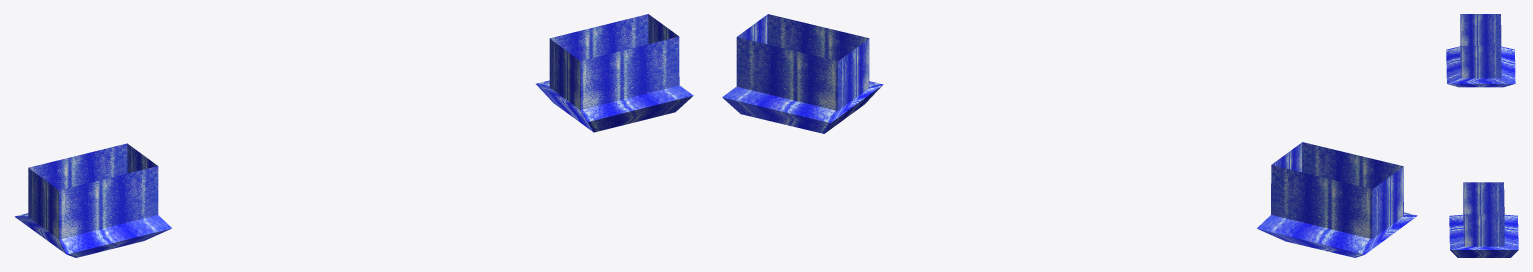
3 views of the same model, side by side, from view 1: azimuth 30°, elevation 25°; view 2: azimuth 150°, elevation 25°; view 3: azimuth 270°, elevation 25° (orthographic). The views are drawn at different scales.
Size of the model in its own units: 0.4068 by 0.0435 by 0.0616.
1 material, 1 textured.
